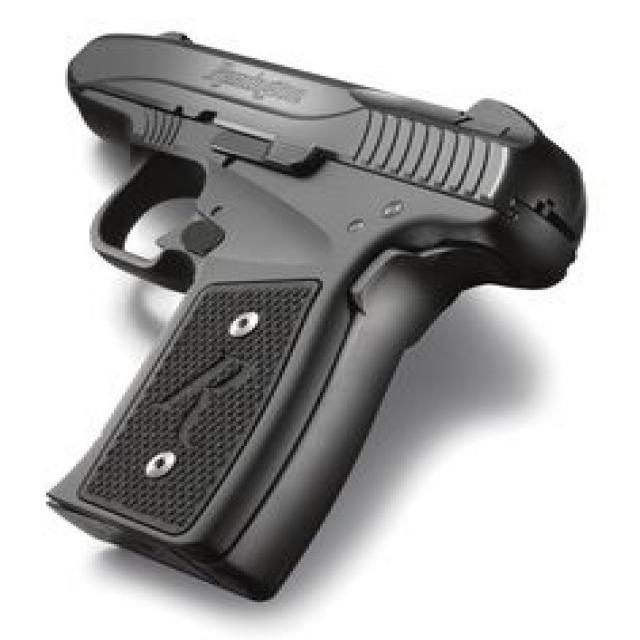semi automatic: (27, 15, 620, 618)
